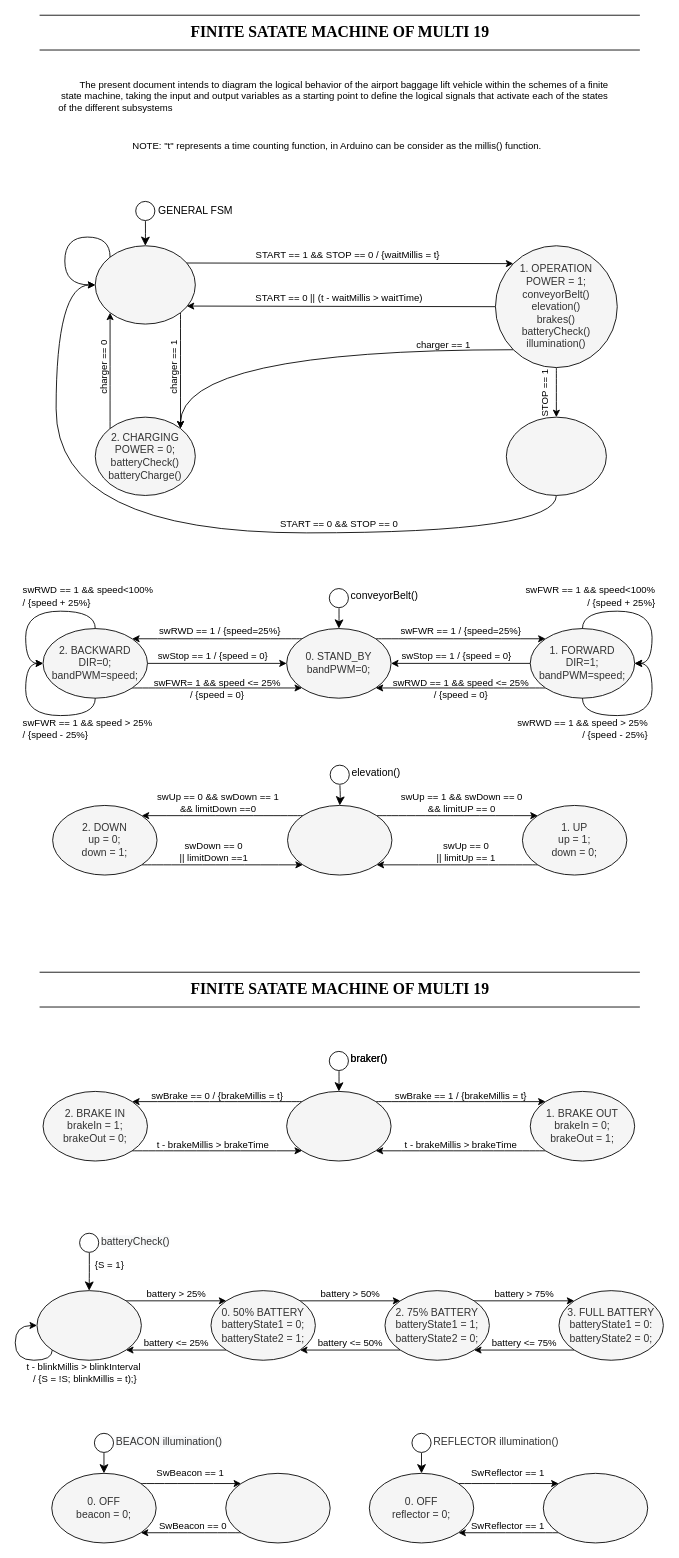
Some shapes in this 679 by 1558 pixel diagram are drawn without their labels. Each missing label, with the centre of its shape:
"0. LOW BATTERY batteryState1 = 0; batteryState2 = S;" goes at (88,1325).
"0. STAND_BY brakeIn = 0; brakeOut = 0;" goes at (338,1126).
"0. STAND_BY POWER = 0; batteryCheck() brakes()" goes at (144,284).
"0. STAND_BY up = 0; down = 0;" goes at (339,840).
"1. ON beacon = 1;" goes at (277,1507).
"1. ON reflector = 1;" goes at (595,1507).
"3. E_STOP POWER = 1; All systems OFF" goes at (555,455).
